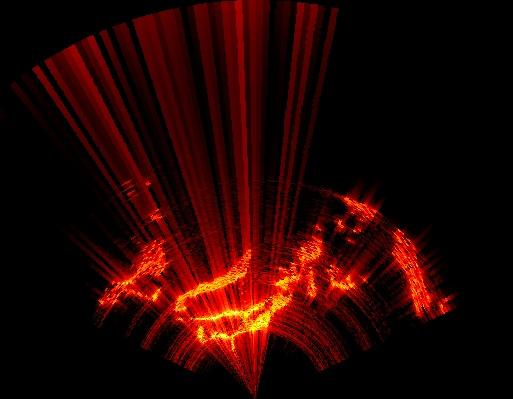shipwreck: (191, 238, 321, 349), (172, 250, 250, 313), (99, 244, 166, 308), (392, 231, 432, 313), (343, 196, 376, 219), (330, 265, 352, 289)
